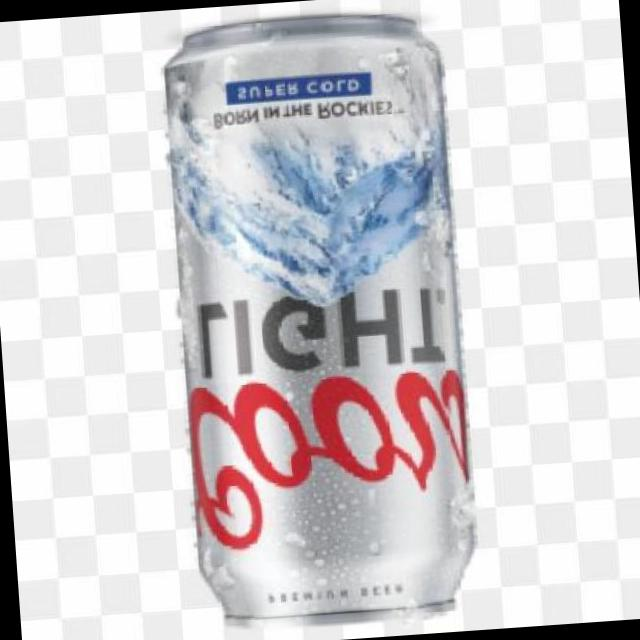Kaleng: (155, 9, 483, 637)
